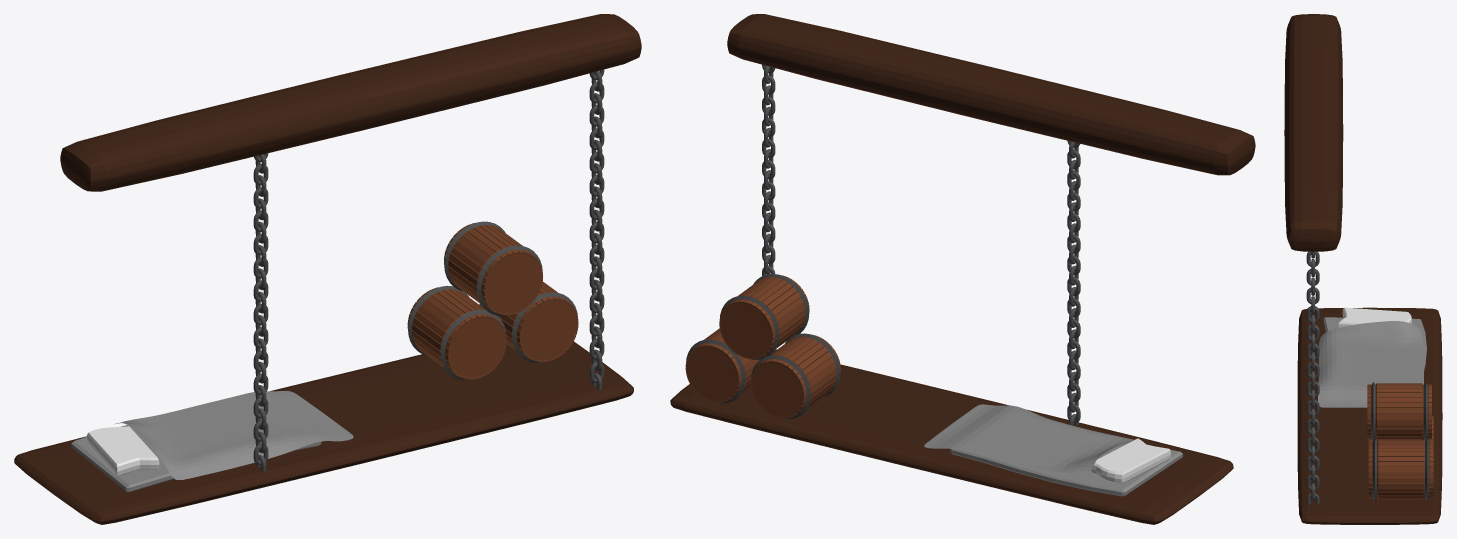
3 views of the same model, side by side, from view 1: azimuth 30°, elevation 25°; view 2: azimuth 150°, elevation 25°; view 3: azimuth 270°, elevation 25° (orthographic). The views are drawn at different scales.
Parts seen in each view (by area): view 1: Plane.006; view 2: Plane.006; view 3: Plane.006.
Boxes of the visible parts, box(x1,y1,x2,y2) form: Plane.006: box(14, 14, 641, 524); Plane.006: box(670, 14, 1255, 524); Plane.006: box(1284, 14, 1442, 524).
Bounding box in the file's own units: 703 × 456 × 215.
